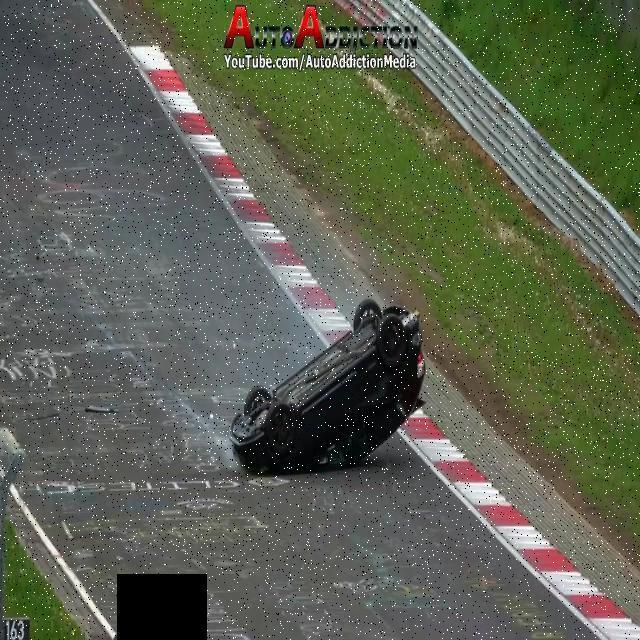accident: (229, 295, 429, 486)
